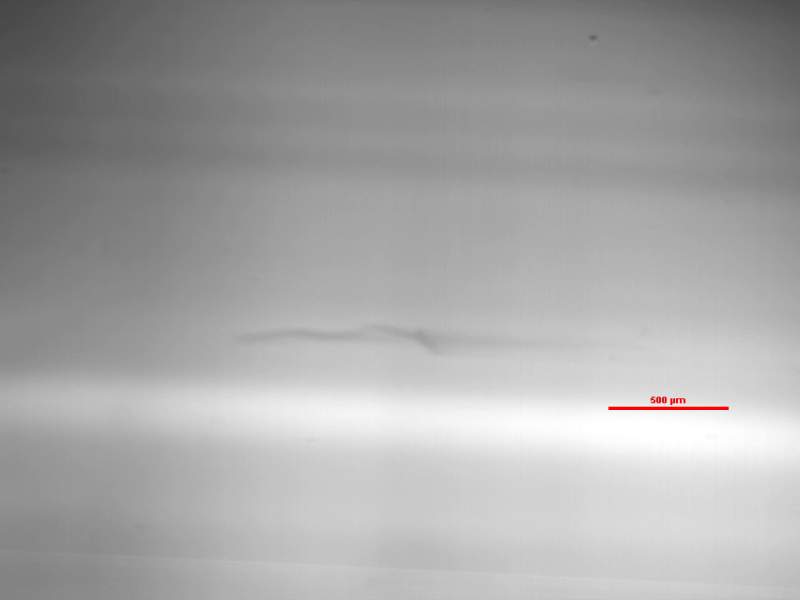bead: (587, 33, 600, 45)
fiber: (235, 319, 614, 360)
